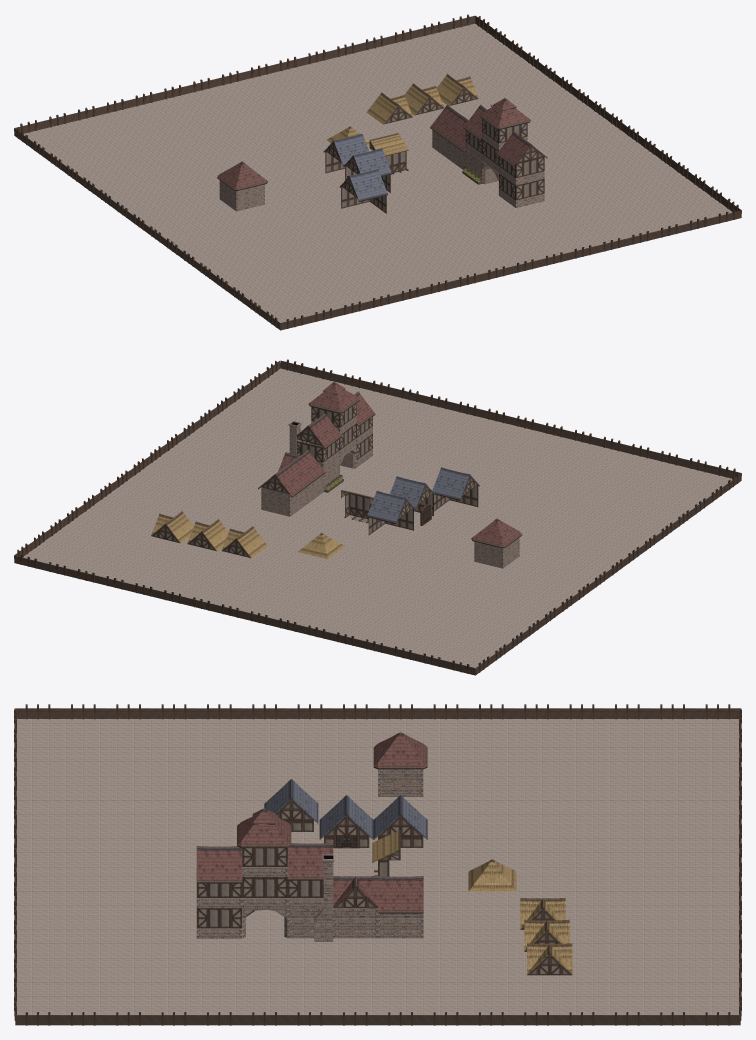
3 renders of one model, top to bottom at view 1: azimuth 30°, elevation 25°; view 2: azimuth 150°, elevation 25°; view 3: azimuth 270°, elevation 25°, orthographic. The views are drawn at different scales.
Parts seen in each view (by area): view 1: stone_floor_4x4, chimney_large, plaster_wall.002, plaster_wall, plaster_wall.001, roof_straw_T.002, roof_straw_stickout_large, stone_square, roof_straw_T.001, roof_red_square, roof_straw_T; view 2: stone_floor_4x4, chimney_large, plaster_wall, plaster_wall.002, roof_straw_T.002, plaster_wall.001, roof_straw_T.001, stone_square, roof_straw_T, roof_red_square, roof_straw_stickout_large, roof_straw_square; view 3: stone_floor_4x4, chimney_large, plaster_wall, plaster_wall.001, plaster_wall.002, roof_red_square, roof_straw_T.001, roof_straw_square, stone_square, roof_straw_T, roof_straw_T.002, roof_straw_stickout_large (+21 smaller).
Part boxes in pixels (x1,y1,x2,y2): stone_floor_4x4: [23, 23, 732, 322]; chimney_large: [430, 98, 547, 207]; plaster_wall.002: [339, 169, 387, 213]; plaster_wall: [323, 133, 369, 173]; plaster_wall.001: [343, 148, 391, 192]; roof_straw_T.002: [366, 92, 412, 124]; roof_straw_stickout_large: [369, 133, 408, 174]; stone_square: [219, 180, 264, 211]; roof_straw_T.001: [437, 74, 478, 105]; roof_red_square: [217, 161, 267, 190]; roof_straw_T: [404, 83, 444, 115]; stone_floor_4x4: [23, 368, 732, 668]; chimney_large: [258, 382, 375, 516]; plaster_wall: [367, 490, 415, 535]; plaster_wall.002: [432, 467, 479, 511]; roof_straw_T.002: [221, 526, 267, 558]; plaster_wall.001: [390, 476, 435, 515]; roof_straw_T.001: [151, 511, 193, 543]; stone_square: [474, 537, 519, 568]; roof_straw_T: [187, 519, 228, 551]; roof_red_square: [471, 518, 522, 547]; roof_straw_stickout_large: [341, 490, 373, 523]; roof_straw_square: [298, 533, 344, 558]; stone_floor_4x4: [16, 719, 739, 1014]; chimney_large: [196, 808, 423, 941]; plaster_wall: [373, 795, 427, 847]; plaster_wall.001: [319, 795, 373, 847]; plaster_wall.002: [264, 779, 318, 831]; roof_red_square: [373, 732, 427, 769]; roof_straw_T.001: [527, 943, 572, 975]; roof_straw_square: [468, 859, 516, 891]; stone_square: [378, 769, 423, 796]; roof_straw_T: [524, 919, 569, 951]; roof_straw_T.002: [520, 898, 565, 929]; roof_straw_stickout_large: [372, 830, 400, 876].
Bounding box in the file's own units: 64.28 × 12.13 × 64.24.
Materials: 20 (20 with a texture image).
